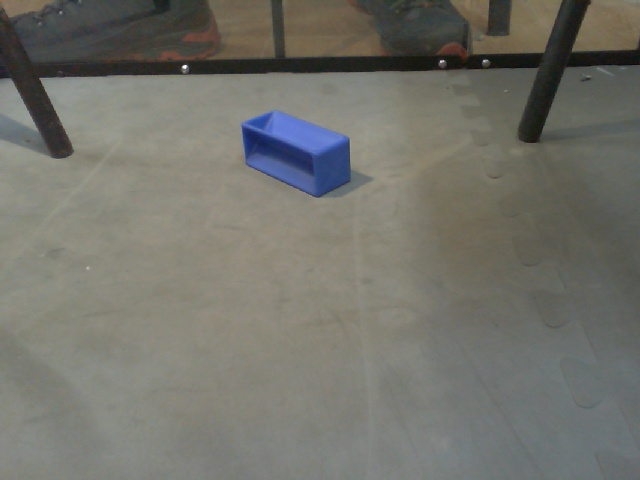BlueSample: (239, 108, 356, 199)
